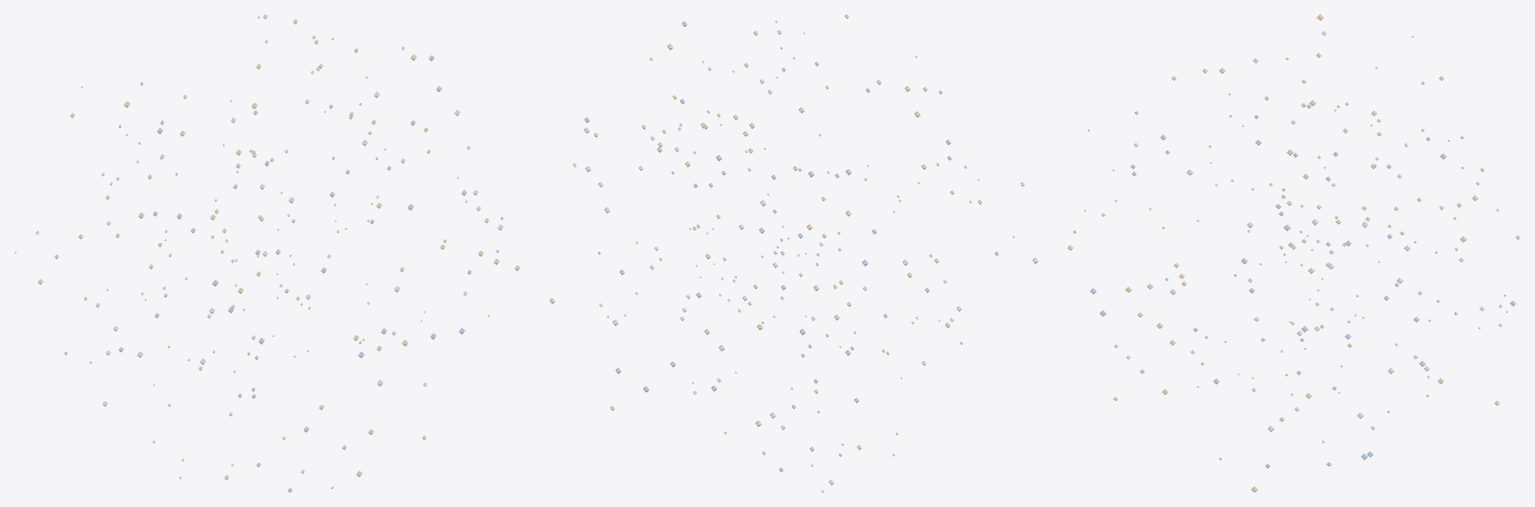
3 renders of one model, left to right at view 1: azimuth 30°, elevation 25°; view 2: azimuth 150°, elevation 25°; view 3: azimuth 270°, elevation 25°, orthographic. The views are drawn at different scales.
Size of the model in its own units: 4.9 by 4.99 by 4.66.
